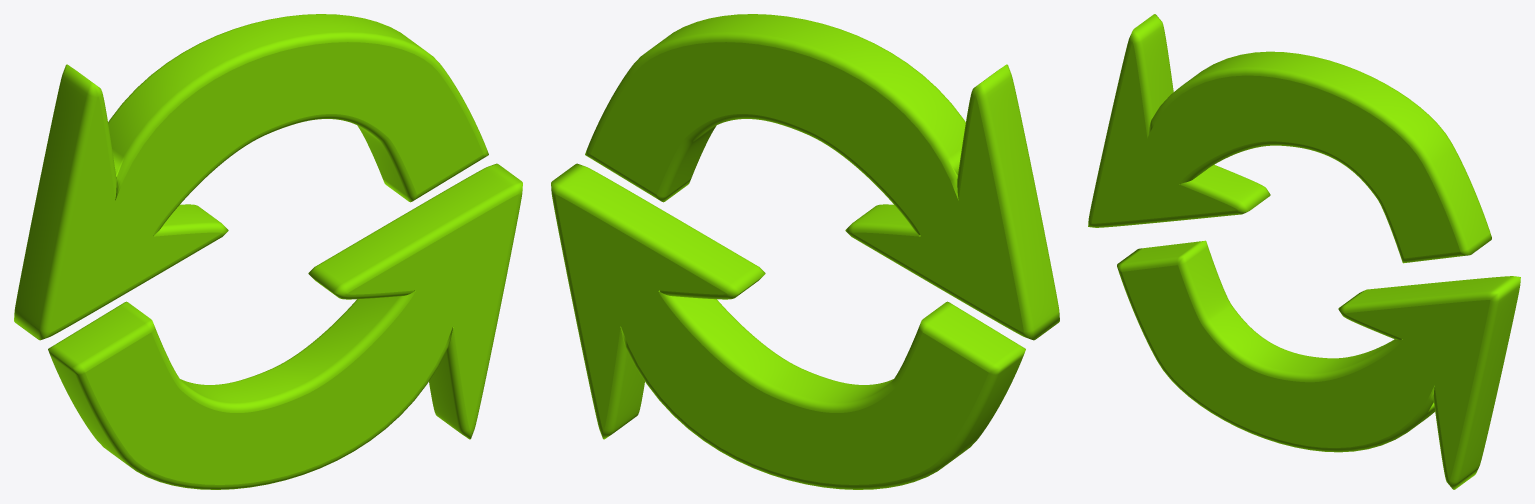
Rendered from recycle.gltf.
3 views of the same model, side by side, from view 1: azimuth 30°, elevation 25°; view 2: azimuth 150°, elevation 25°; view 3: azimuth 330°, elevation 25° (orthographic). The views are drawn at different scales.
Visible parts, largest first — view 1: recycle; view 2: recycle; view 3: recycle.
Boxes of the visible parts, x1,y1,x2,y2 form: recycle: (14,14,522,489); recycle: (551,14,1059,489); recycle: (1088,14,1520,489).
Size of the model in its own units: 2.82 by 2.51 by 0.32.
